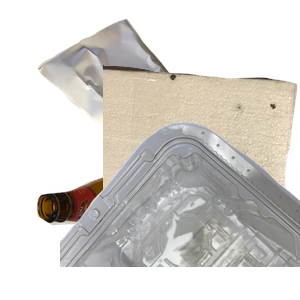glass: (34, 170, 223, 300)
paper: (35, 10, 237, 178)
plastic: (60, 120, 300, 300)
trash: (103, 62, 300, 242)
